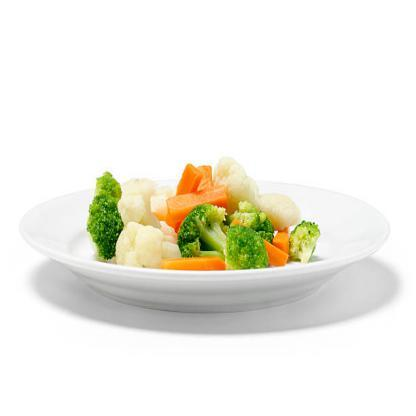broccoli: (176, 196, 323, 274), (85, 168, 124, 266)
